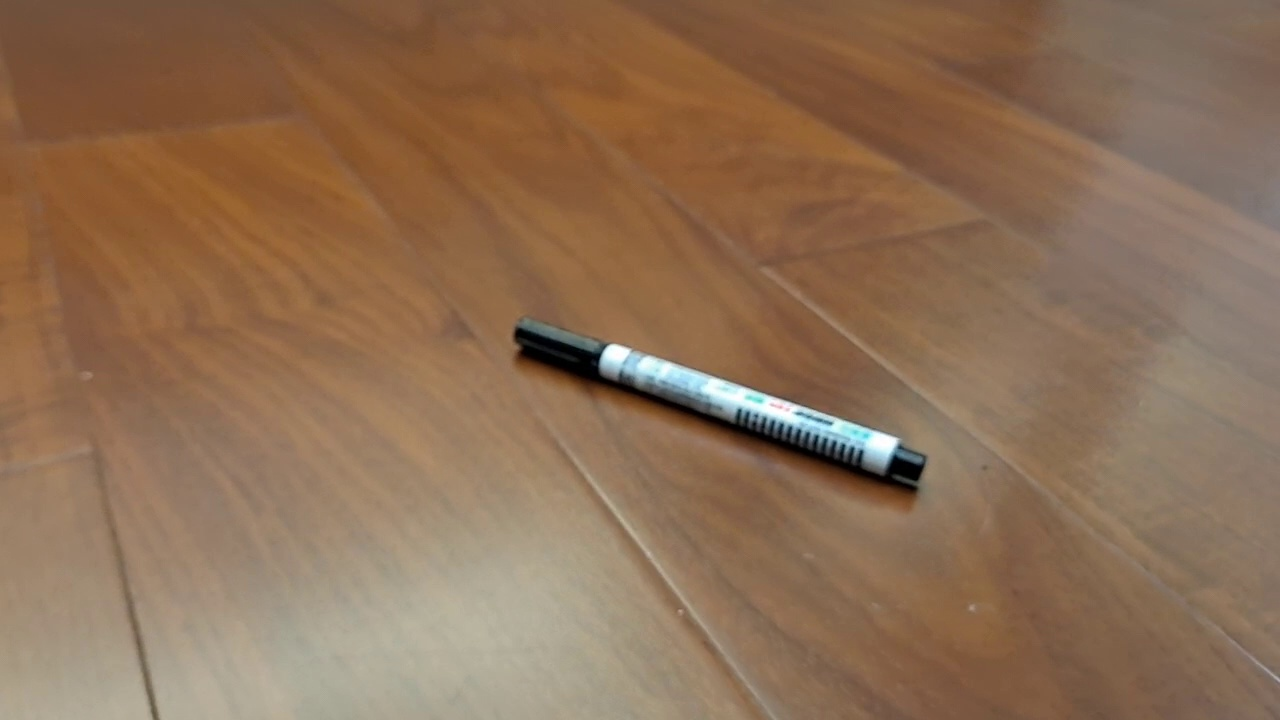pen: (511, 313, 929, 482)
